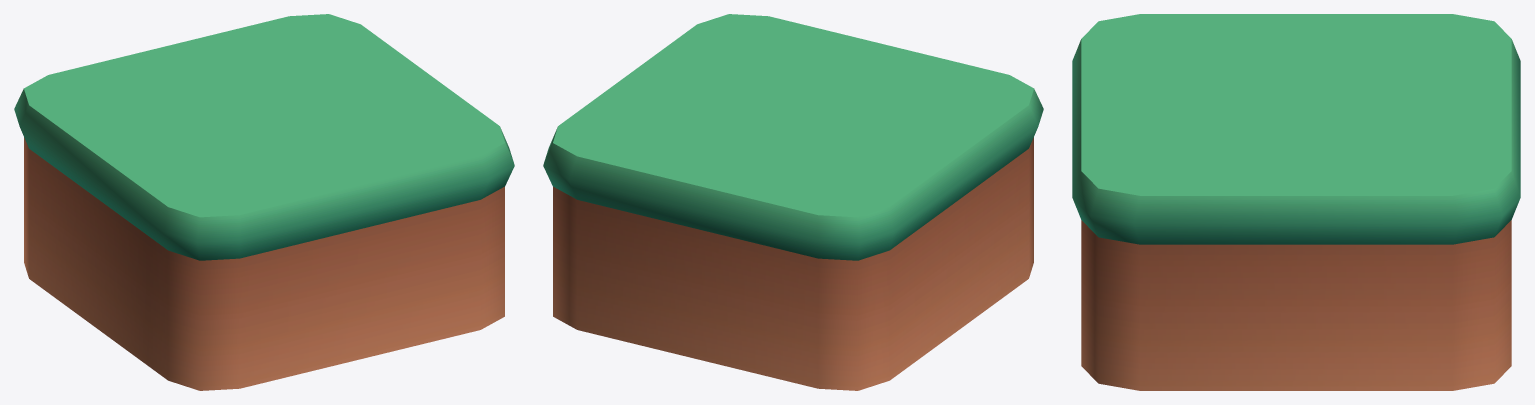
Rendered from Platform.glb.
3 renders of one model, left to right at view 1: azimuth 30°, elevation 25°; view 2: azimuth 150°, elevation 25°; view 3: azimuth 270°, elevation 25°, orthographic. The views are drawn at different scales.
Parts seen in each view (by area): view 1: block-grass-large; view 2: block-grass-large; view 3: block-grass-large.
Part boxes in pixels (x1,y1,x2,y2): block-grass-large: [14, 14, 514, 390]; block-grass-large: [543, 14, 1043, 390]; block-grass-large: [1072, 14, 1520, 390].
Size of the model in its own units: 2.08 by 1 by 2.08.
1 material, 1 textured.
